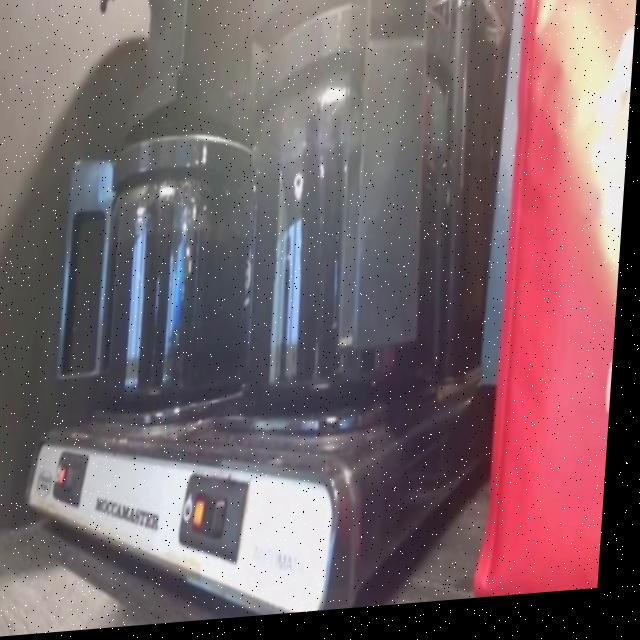coffee: (249, 125, 454, 406), (105, 195, 259, 406)
